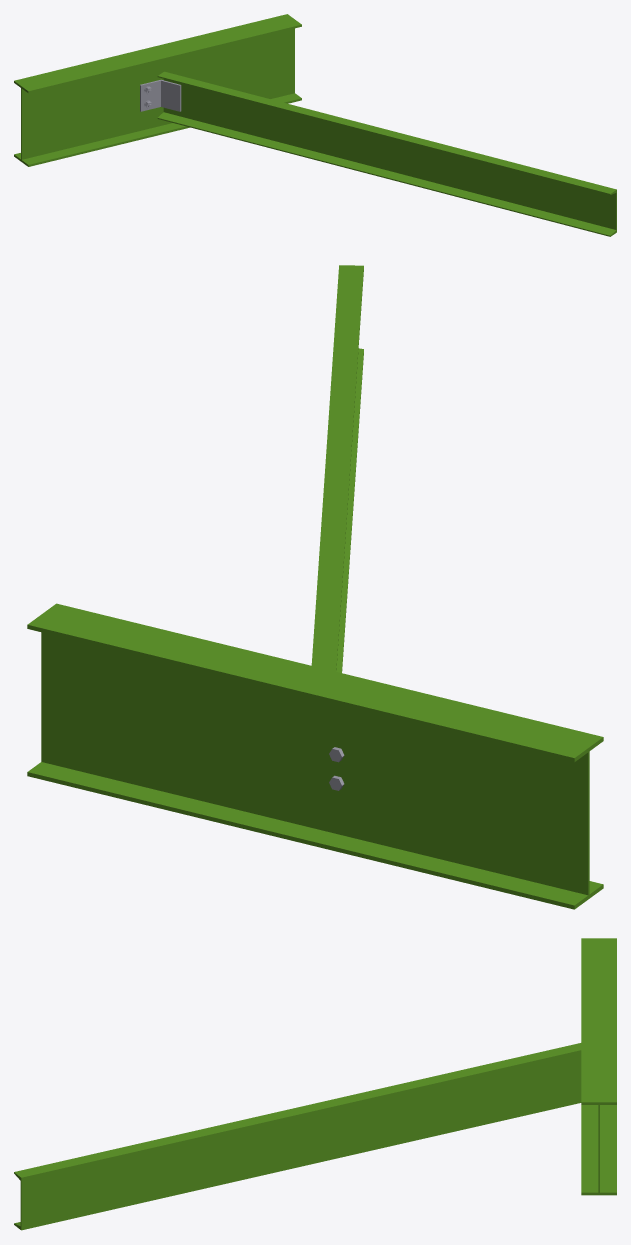
Rendered from Bent Plate GLB.glb.
3 renders of one model, top to bottom at view 1: azimuth 30°, elevation 25°; view 2: azimuth 150°, elevation 25°; view 3: azimuth 270°, elevation 25°, orthographic. The views are drawn at different scales.
Parts seen in each view (by area): view 1: FamilyInstance Structural Framing BEAM <1240492 BEAM<, FamilyInstance Structural Framing BEAM 209 <1240929 BEAM 209; view 2: FamilyInstance Structural Framing BEAM 209 <1240929 BEAM 209, FamilyInstance Structural Framing BEAM <1240492 BEAM<; view 3: FamilyInstance Structural Framing BEAM <1240492 BEAM<, FamilyInstance Structural Framing BEAM 209 <1240929 BEAM 209.
Part boxes in pixels (box(x1,y1,x2,y2)): FamilyInstance Structural Framing BEAM <1240492 BEAM<: box(140, 71, 616, 236); FamilyInstance Structural Framing BEAM 209 <1240929 BEAM 209: box(14, 14, 301, 166); FamilyInstance Structural Framing BEAM 209 <1240929 BEAM 209: box(27, 603, 603, 909); FamilyInstance Structural Framing BEAM <1240492 BEAM<: box(311, 265, 363, 790); FamilyInstance Structural Framing BEAM <1240492 BEAM<: box(14, 1043, 581, 1230); FamilyInstance Structural Framing BEAM 209 <1240929 BEAM 209: box(581, 938, 616, 1195).
Bounding box in the file's own units: 79.05 × 15.87 × 93.31.
